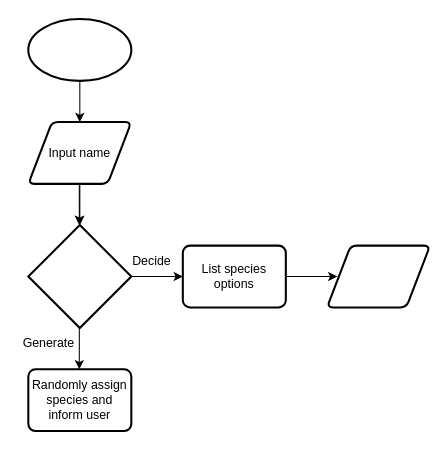
The diagram is 448 pixels wide and 449 high, and some of its shapes have lost their labels. Here are the shapes that lost their labels. From the top down, the centre of each, then its label:
(x=79, y=49): Start
(x=79, y=276): Decide or generate species
